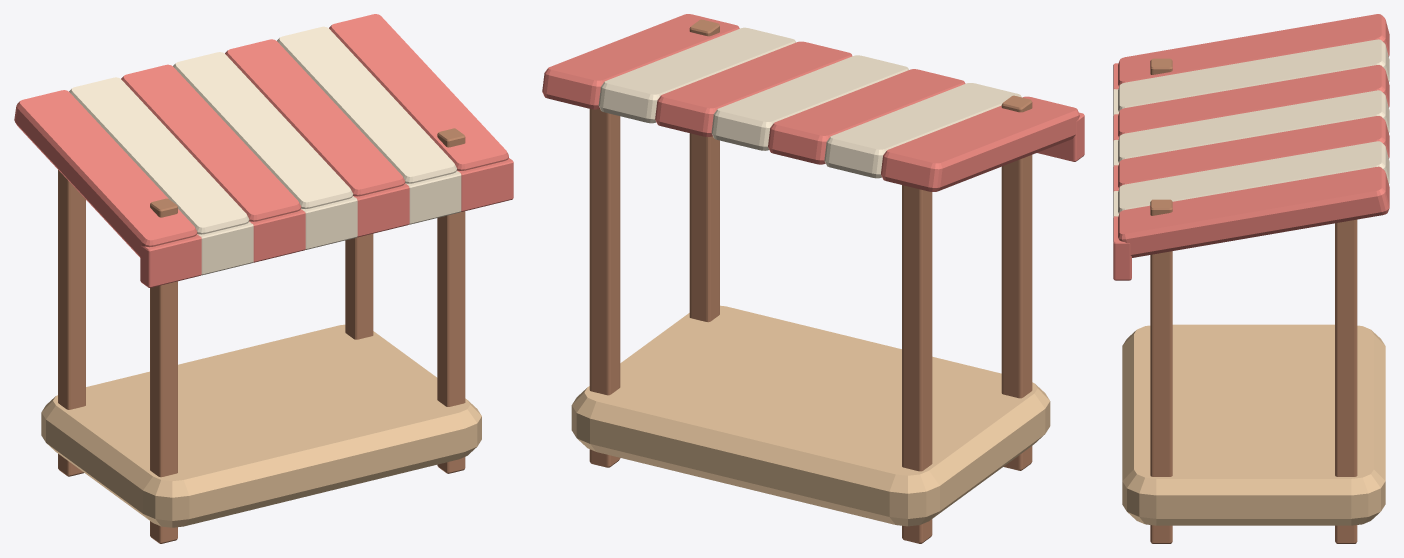
Rendered from market_tent.glb.
3 renders of one model, left to right at view 1: azimuth 30°, elevation 25°; view 2: azimuth 150°, elevation 25°; view 3: azimuth 270°, elevation 25°, orthographic. The views are drawn at different scales.
Visible parts, largest first — view 1: model, awning; view 2: model, awning; view 3: model, awning.
Boxes of the visible parts, bbox=[...] form: model: bbox=[41, 128, 513, 543]; awning: bbox=[14, 14, 508, 257]; model: bbox=[571, 19, 1084, 543]; awning: bbox=[542, 14, 1079, 191]; model: bbox=[1113, 58, 1385, 543]; awning: bbox=[1118, 14, 1389, 257].
Bounding box in the file's own units: 2.3 × 2.2 × 1.5.
